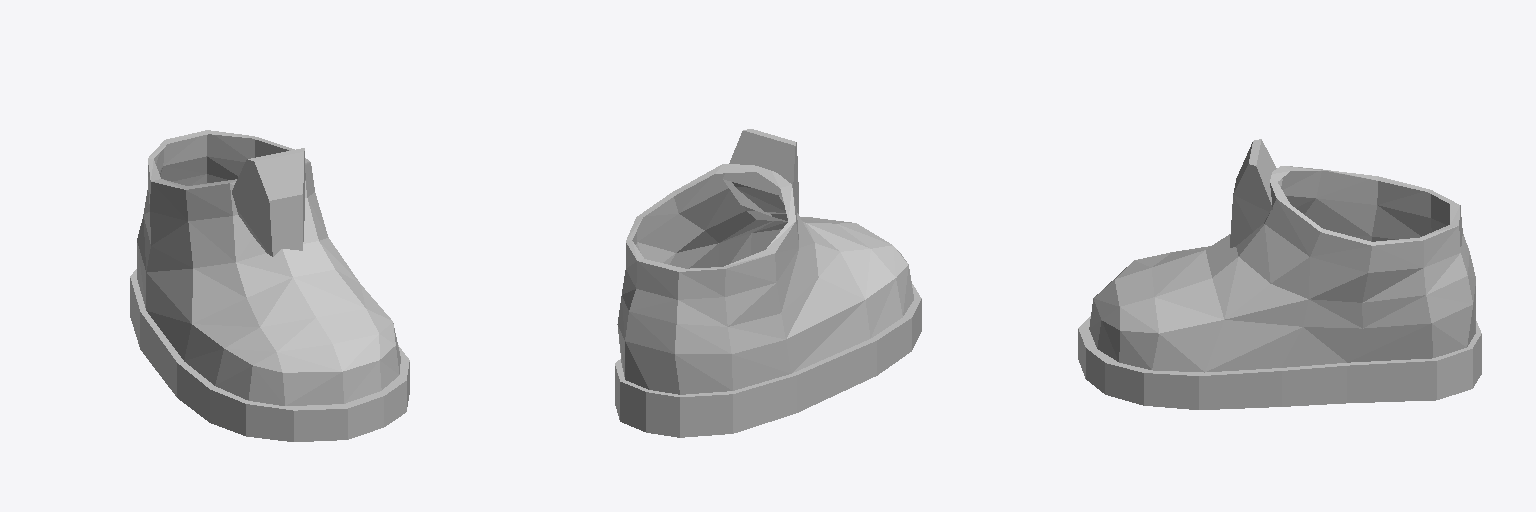
File: sd_foot.obj
The picture shows the model from 3 angles: view 1: azimuth 30°, elevation 25°; view 2: azimuth 150°, elevation 25°; view 3: azimuth 270°, elevation 25°; orthographic projection.
Visible parts, largest first — view 1: Armor.APA_ref.smd.mesh_0.004_Armor.APA_ref.smd.mesh_0.007; view 2: Armor.APA_ref.smd.mesh_0.004_Armor.APA_ref.smd.mesh_0.007; view 3: Armor.APA_ref.smd.mesh_0.004_Armor.APA_ref.smd.mesh_0.007.
Boxes of the visible parts, x1,y1,x2,y2 form: Armor.APA_ref.smd.mesh_0.004_Armor.APA_ref.smd.mesh_0.007: [130, 130, 409, 441]; Armor.APA_ref.smd.mesh_0.004_Armor.APA_ref.smd.mesh_0.007: [615, 129, 921, 437]; Armor.APA_ref.smd.mesh_0.004_Armor.APA_ref.smd.mesh_0.007: [1078, 139, 1481, 409].
Bounding box in the file's own units: 6.62 × 7.18 × 12.17.